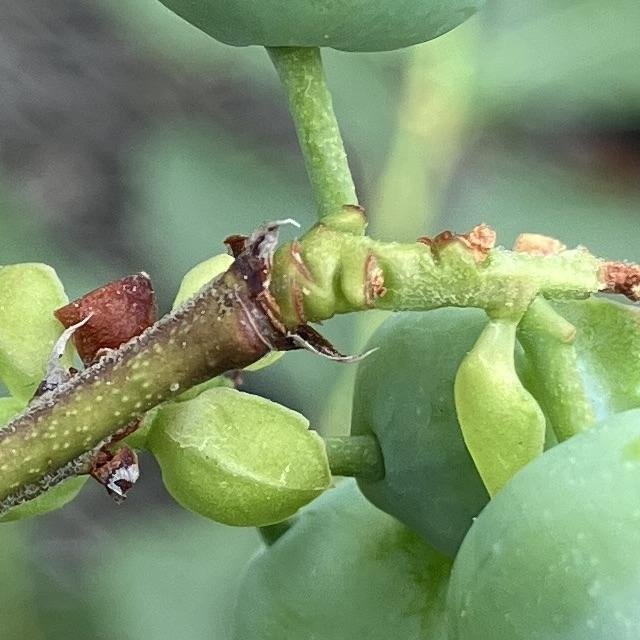Blueberries: (439, 394, 640, 640)
